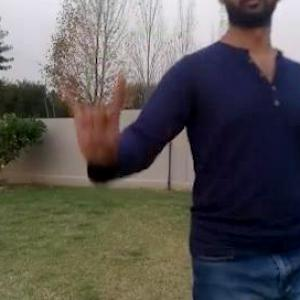takeoff-hand: (63, 63, 128, 176)
